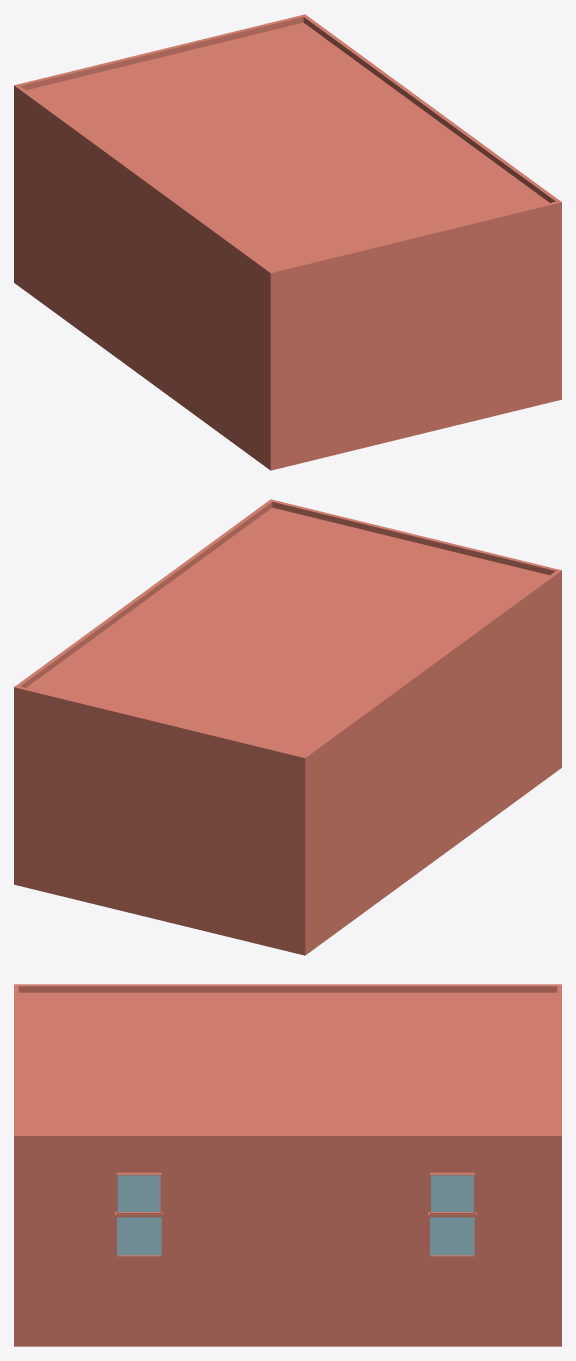
The model's file is Batiment_3.fbx.
3 renders of one model, top to bottom at view 1: azimuth 30°, elevation 25°; view 2: azimuth 150°, elevation 25°; view 3: azimuth 270°, elevation 25°, orthographic. The views are drawn at different scales.
Parts seen in each view (by area): view 1: Batiment3; view 2: Batiment3; view 3: Batiment3.
Part boxes in pixels (<box>): Batiment3: <box>14,14,561,470</box>; Batiment3: <box>14,499,561,955</box>; Batiment3: <box>14,984,561,1346</box>.
Bounding box in the file's own units: 800 × 509 × 1200.
